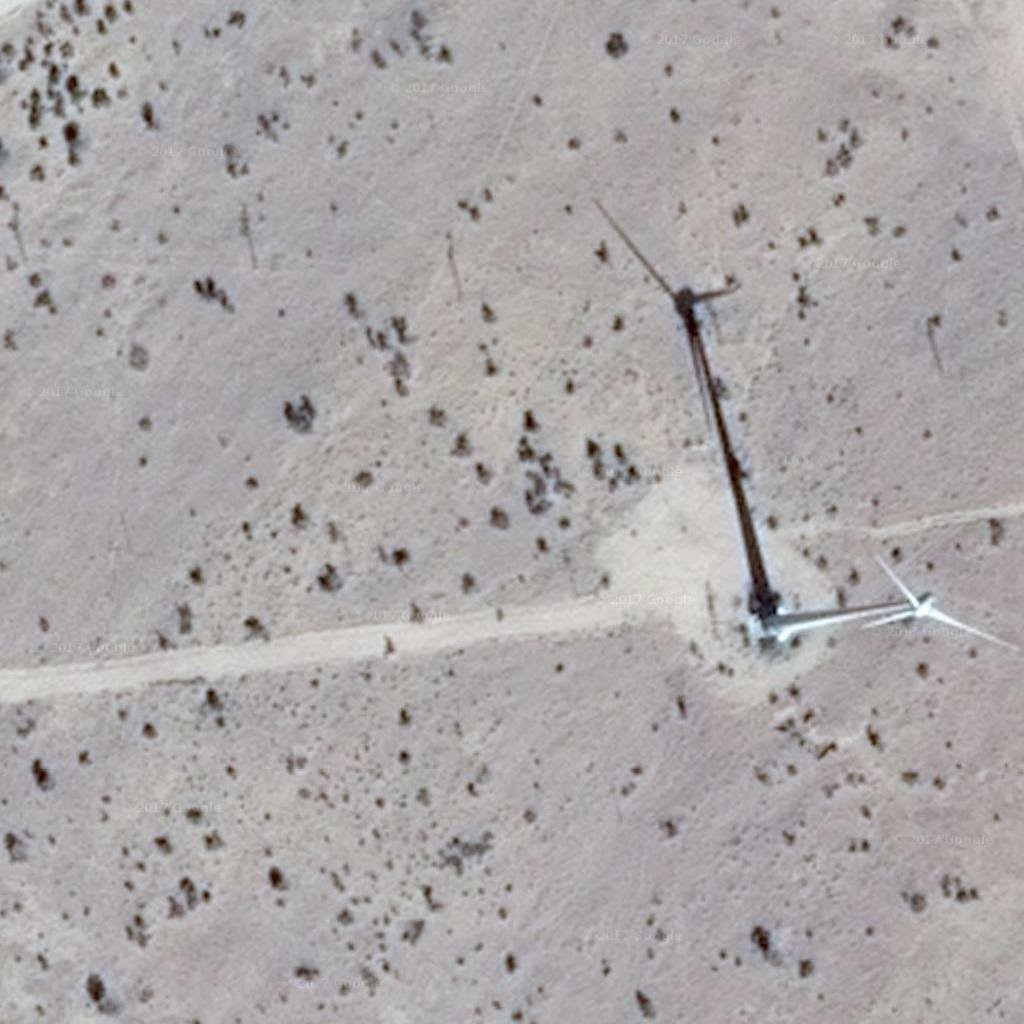Windmill: (589, 195, 797, 609)
